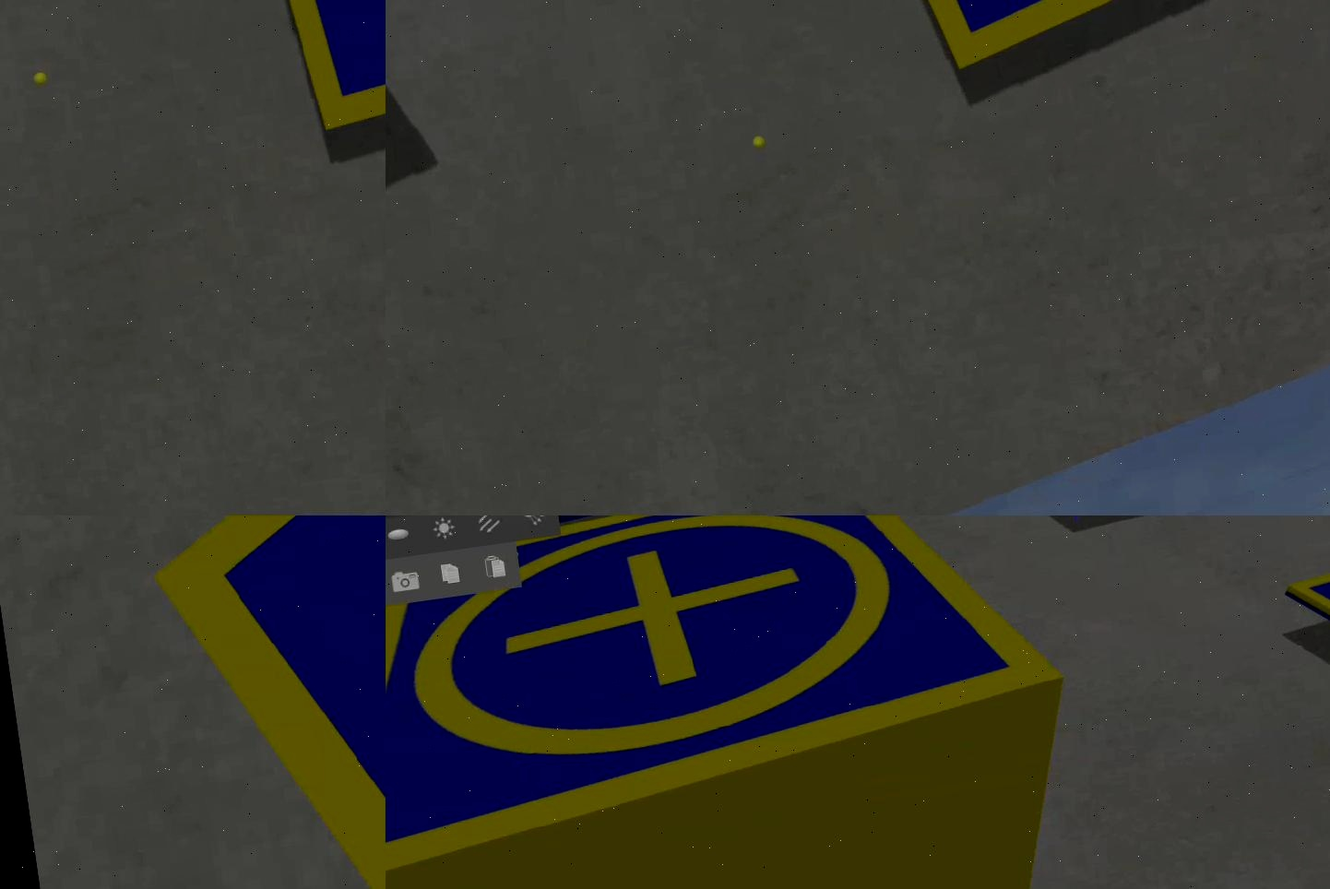small_base: (386, 516, 1080, 889), (91, 516, 386, 889), (1281, 535, 1330, 742)
